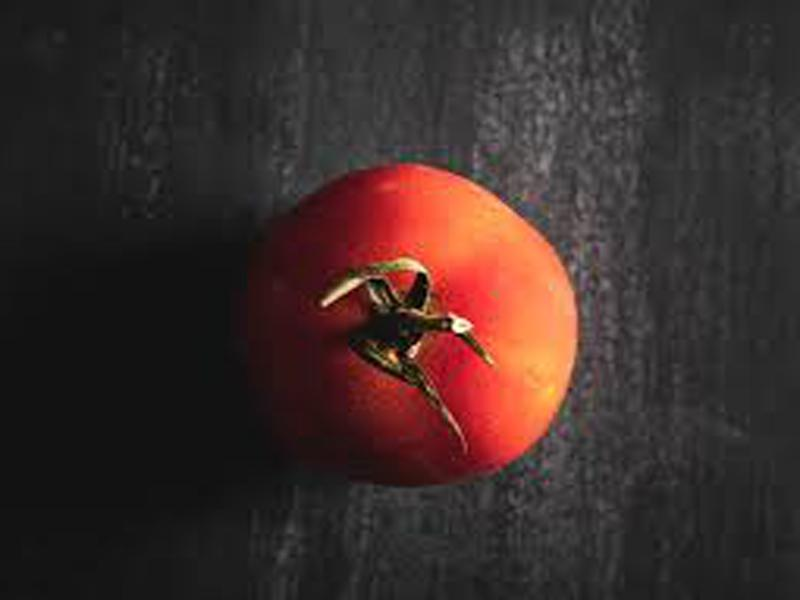Tomato: (244, 164, 579, 482)
